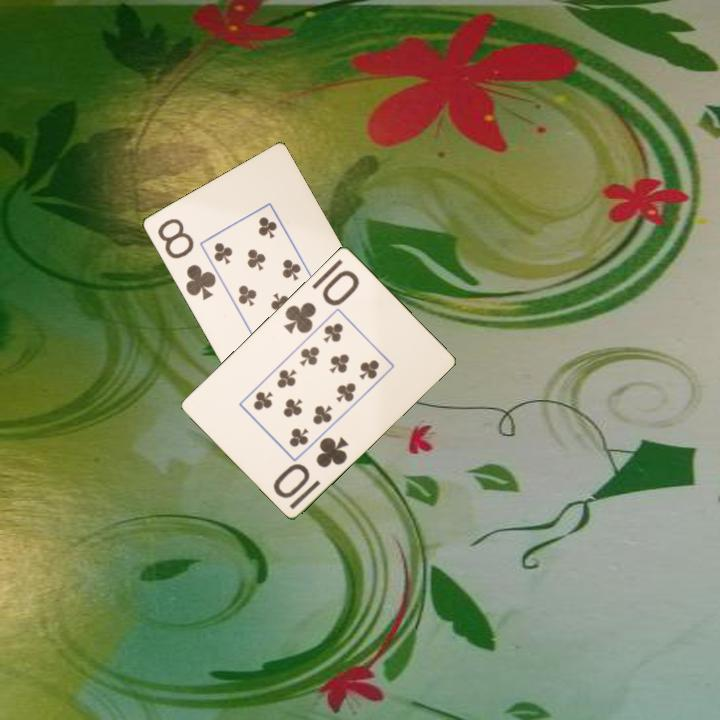10c: (280, 266, 362, 337), (270, 432, 352, 501)
8c: (153, 214, 219, 303)
